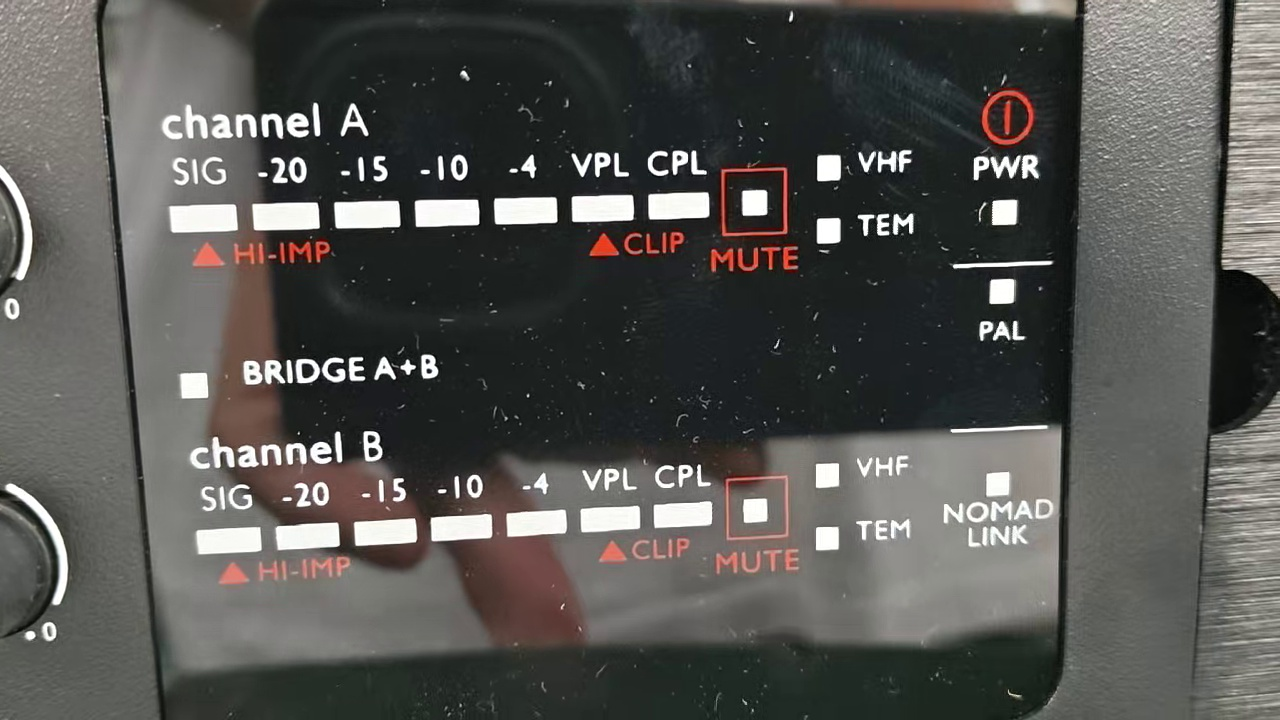FP_CPL: (645, 458, 719, 540), (643, 148, 712, 233)
FP_PWR: (957, 148, 1054, 230)
FP_PWR_area: (945, 83, 1054, 263)
FP_SIG_area: (187, 426, 909, 594), (160, 145, 922, 286)
FP_VPL: (565, 148, 637, 230), (579, 462, 645, 540)
